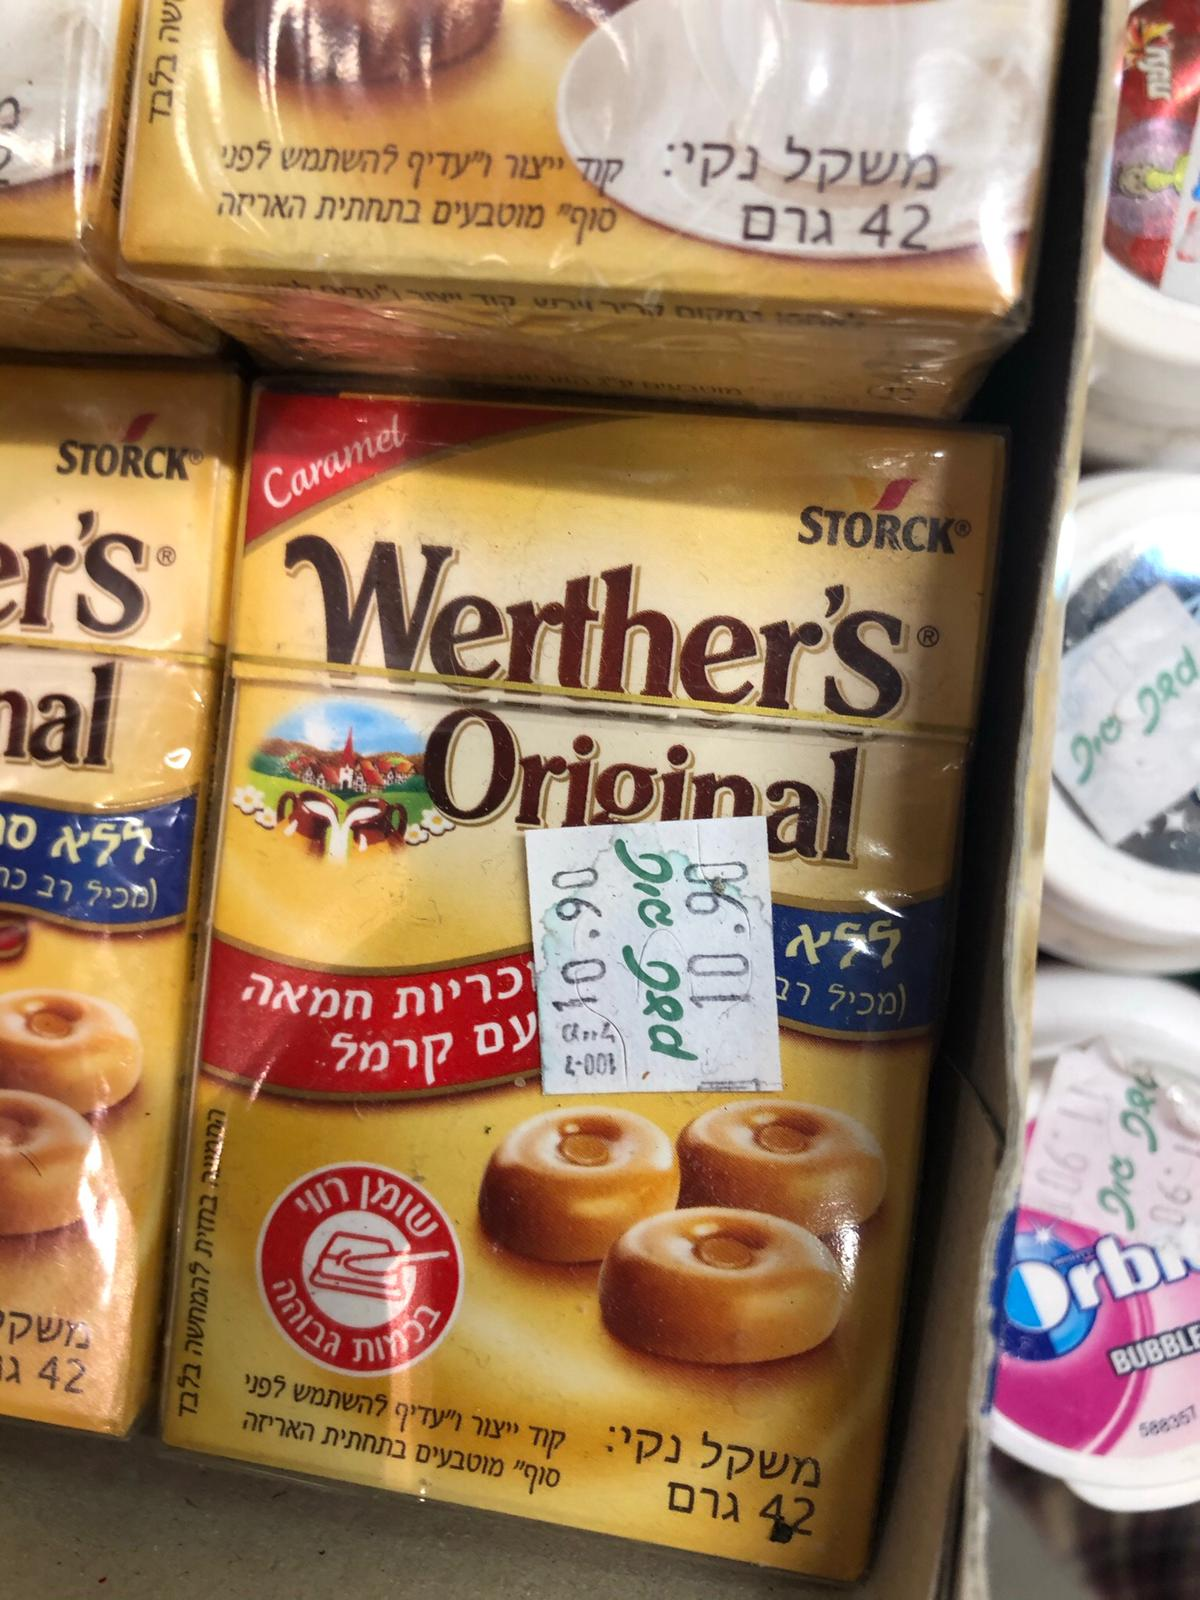fat: (257, 1163, 466, 1378)
